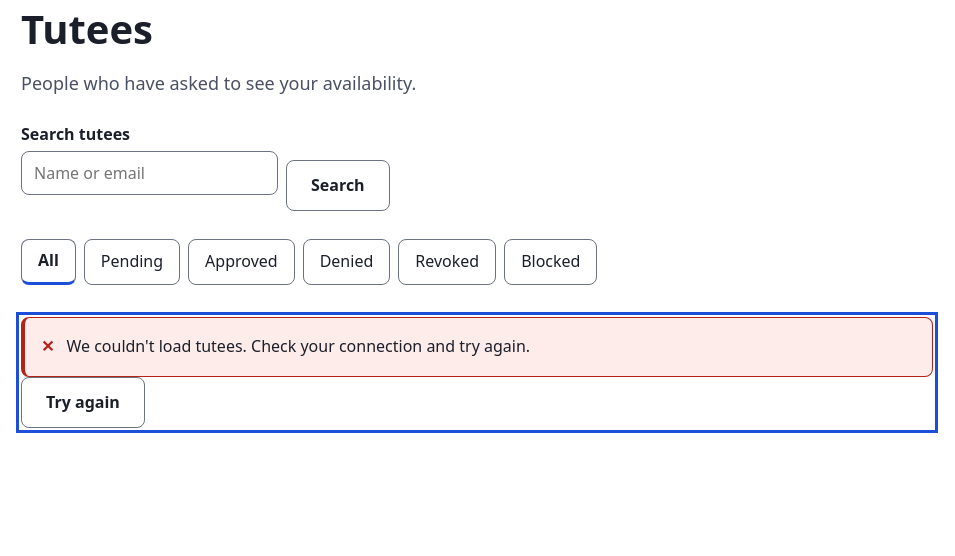
tutees list page › shows an error with retry and focuses it, then recovers
Expected: the message shows "We couldn't load tutees", [66,335,530,357]
Click the button "Try again" at (83, 402), box [21,377,145,428]
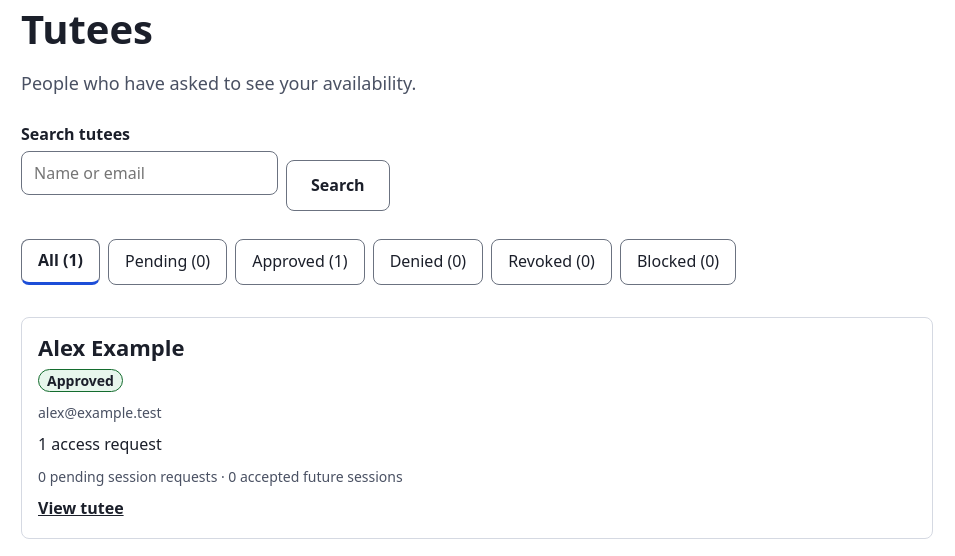
Now the heading "Alex Example" is shown, box [38,332,184,362]
Now the message "✕ We couldn't load tutees. Check your connection and try again." is gone
